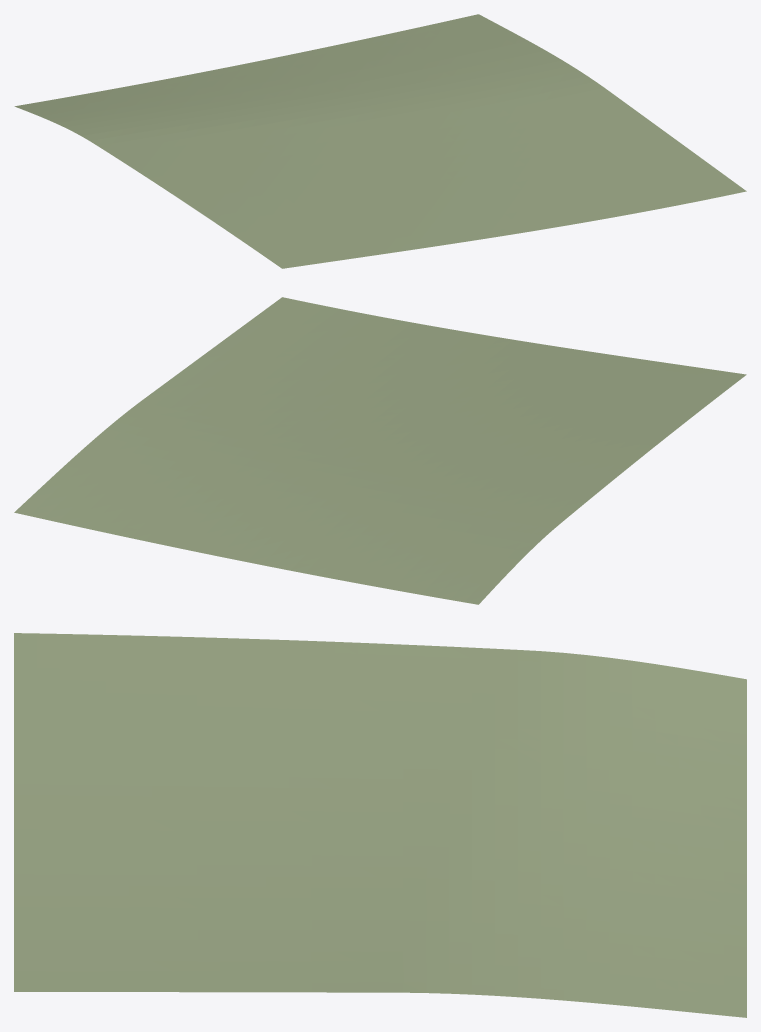
The model's file is valley-12-9.glb.
3 views of the same model, one above another, from view 1: azimuth 30°, elevation 25°; view 2: azimuth 150°, elevation 25°; view 3: azimuth 270°, elevation 25° (orthographic). The views are drawn at different scales.
Parts seen in each view (by area): view 1: valley-12-9; view 2: valley-12-9; view 3: valley-12-9.
Part boxes in pixels (x1,y1,x2,y2): valley-12-9: [14, 14, 746, 268]; valley-12-9: [14, 297, 746, 604]; valley-12-9: [14, 633, 746, 1017].
Size of the model in its own units: 256 by 28.97 by 256.
